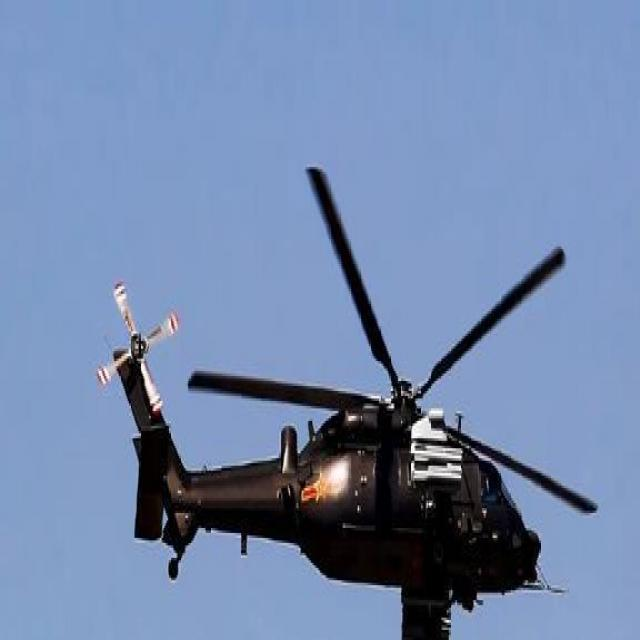MIL_HELO: (100, 168, 605, 640)
